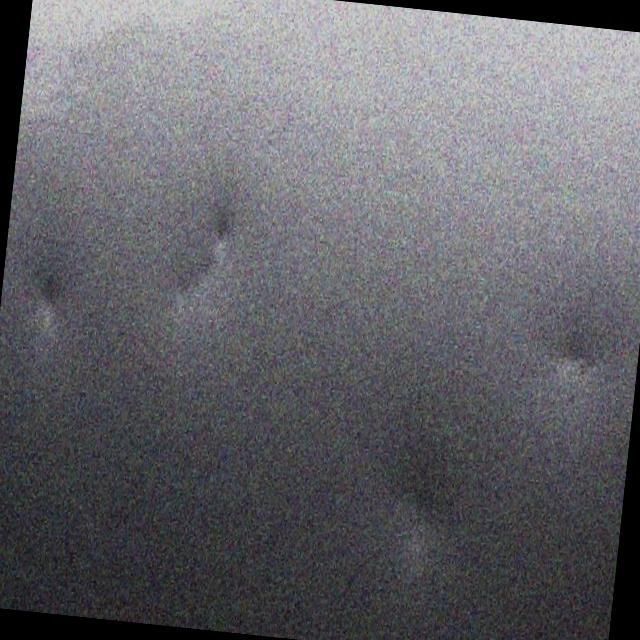dent: (150, 229, 246, 353), (394, 457, 472, 582), (524, 292, 596, 390), (32, 252, 76, 348)
